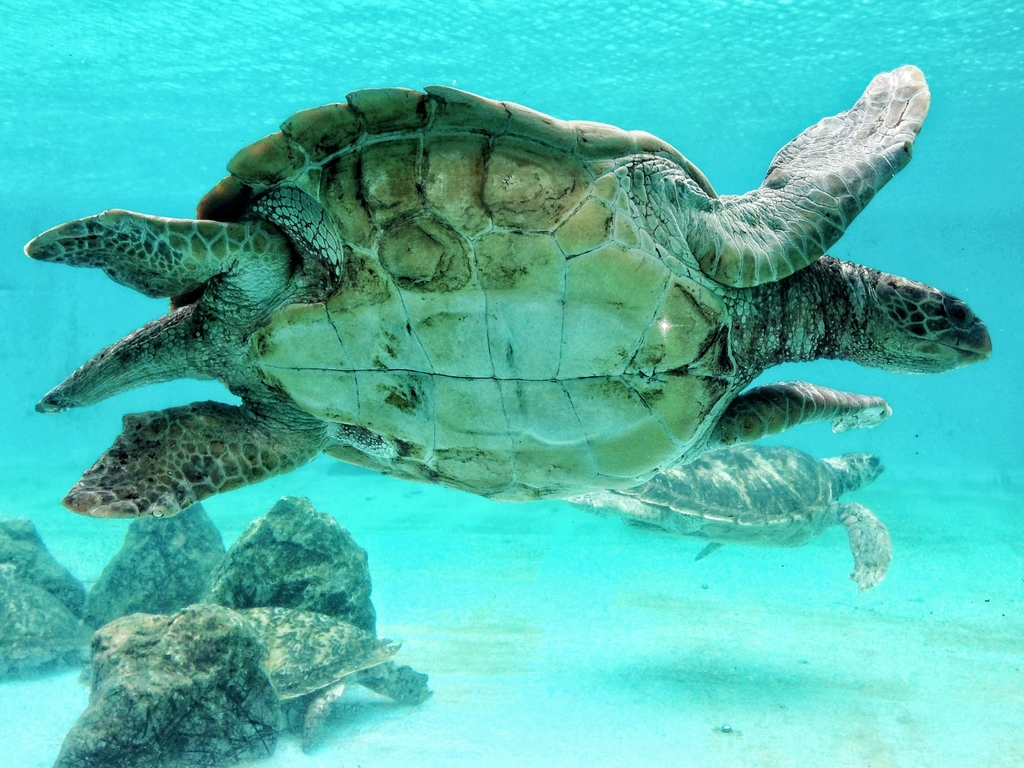Sea turtles: (27, 63, 995, 520), (563, 436, 895, 591)
